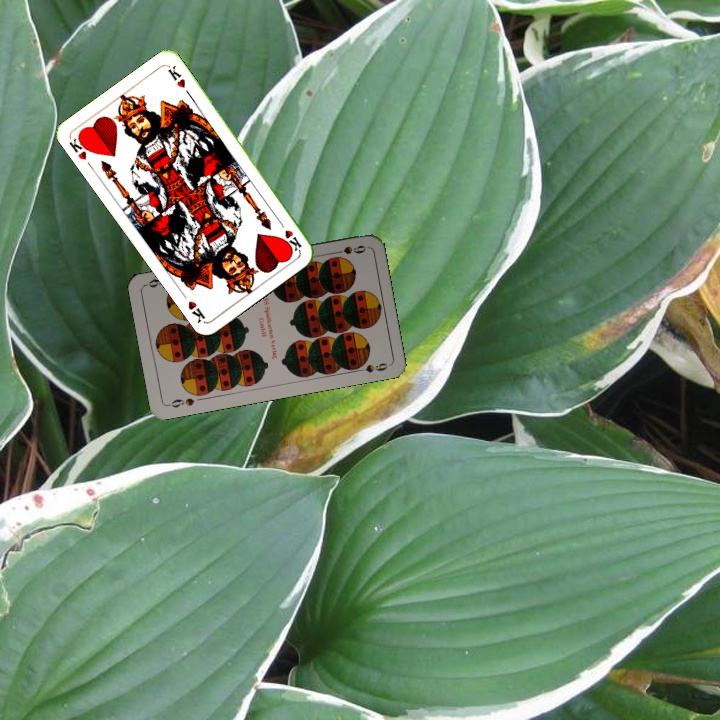HK: (274, 217, 304, 254), (65, 131, 94, 163)
S9: (328, 241, 369, 257), (164, 394, 197, 410)
